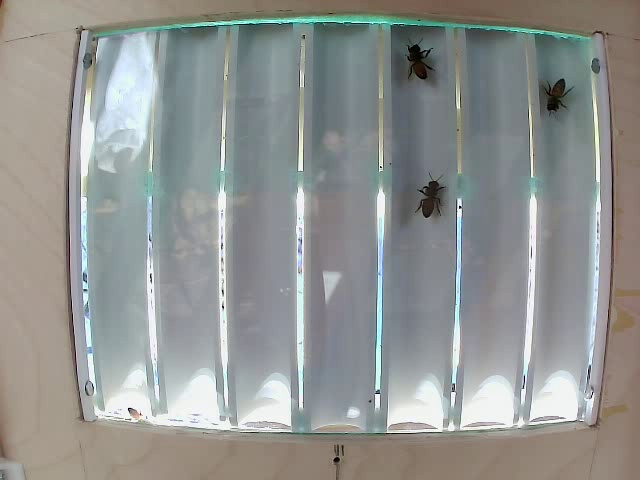bee: (399, 37, 452, 96), (403, 167, 465, 216), (549, 67, 575, 118)
